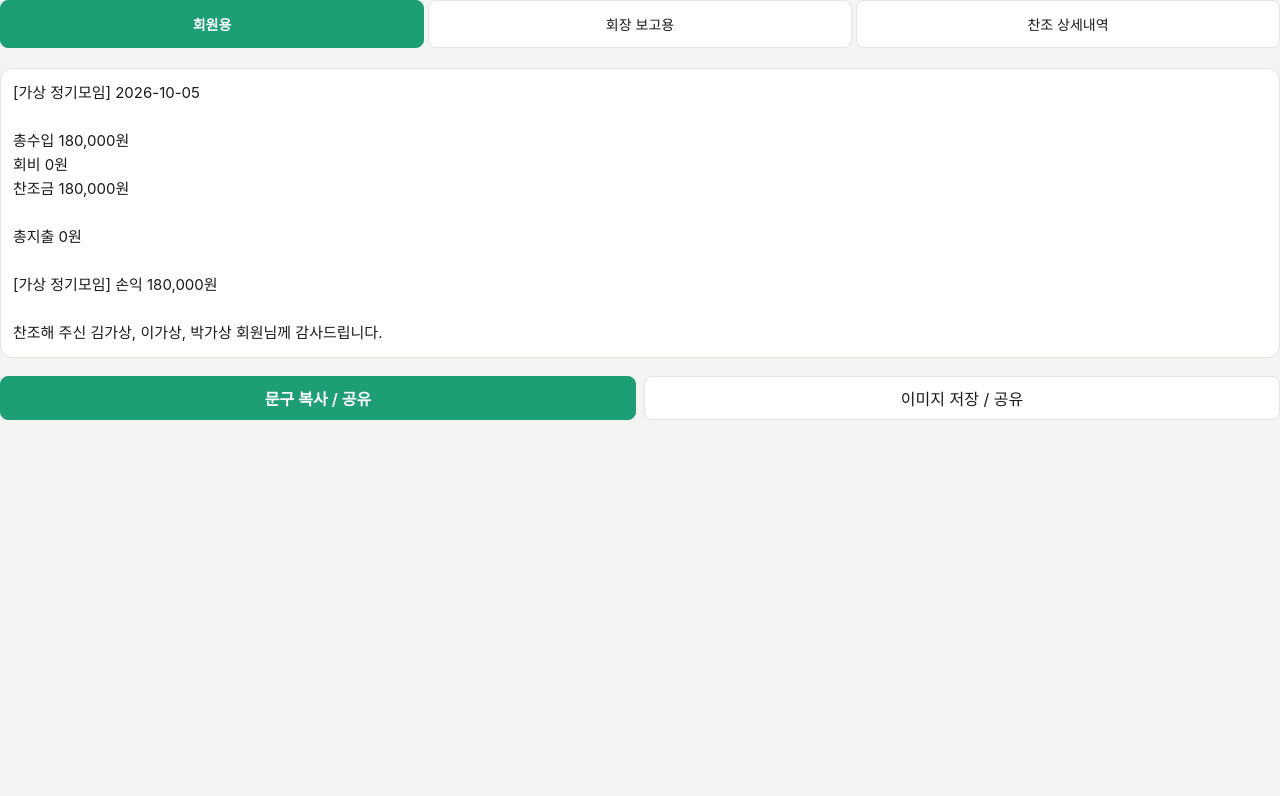
공유 탭 화면 › 기존 회원용·회장 보고용 화면은 예전 그대로다 (같은 문구, 같은 버튼, 회장용 안내문)
Expected: the text "총수입" shows "[가상 정기모임] 2026-10-05", [13,83,382,342]
Expected: the button "문구 복사 / 공유" is shown, [0,376,636,420]
Click the button "회장 보고용" at (640, 24), box [428,0,852,48]
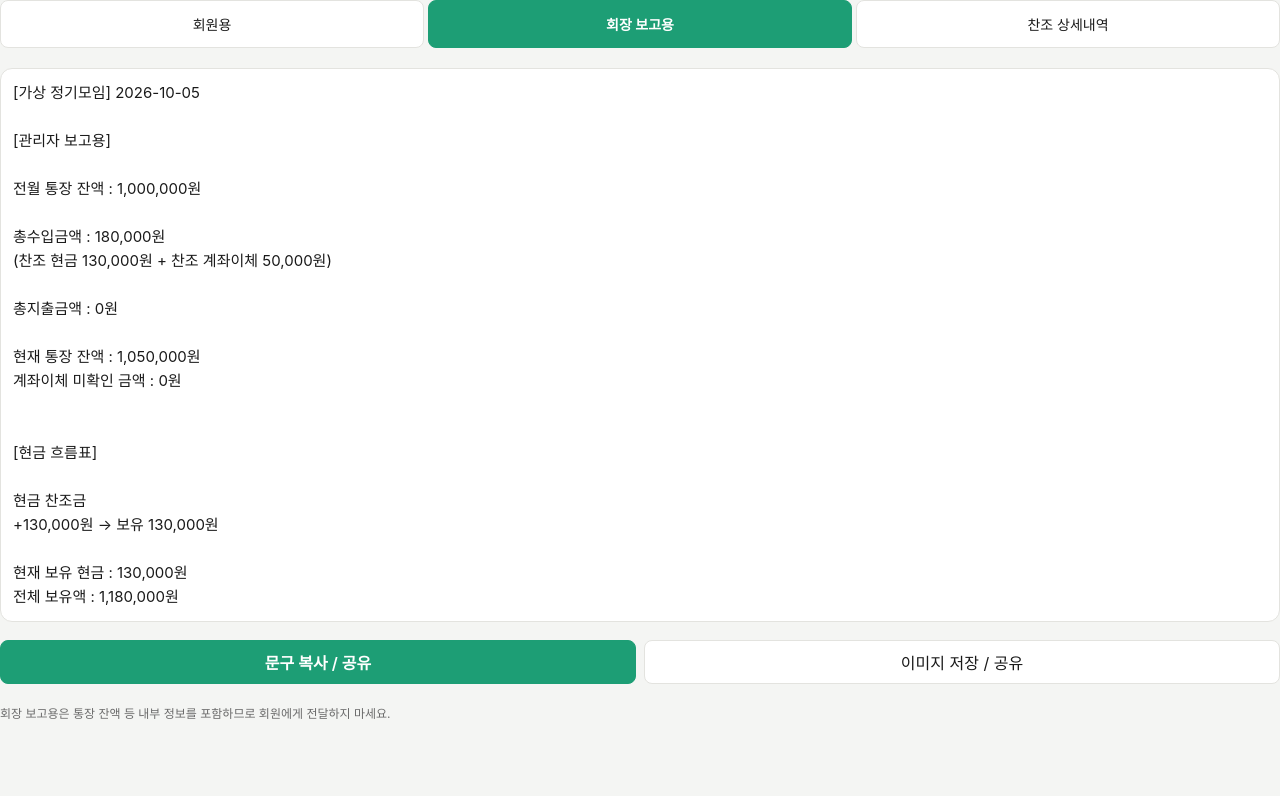
Expected: the text "[관리자 보고용]" is shown, [13,83,332,606]
Expected: the text "회장 보고용은 통장 잔액 등 내부 정보를 포함하므로 회원에게 전달하지 마세요." is shown, [0,706,390,721]
Click the button "찬조 상세내역" at (1068, 24), box [856,0,1279,48]
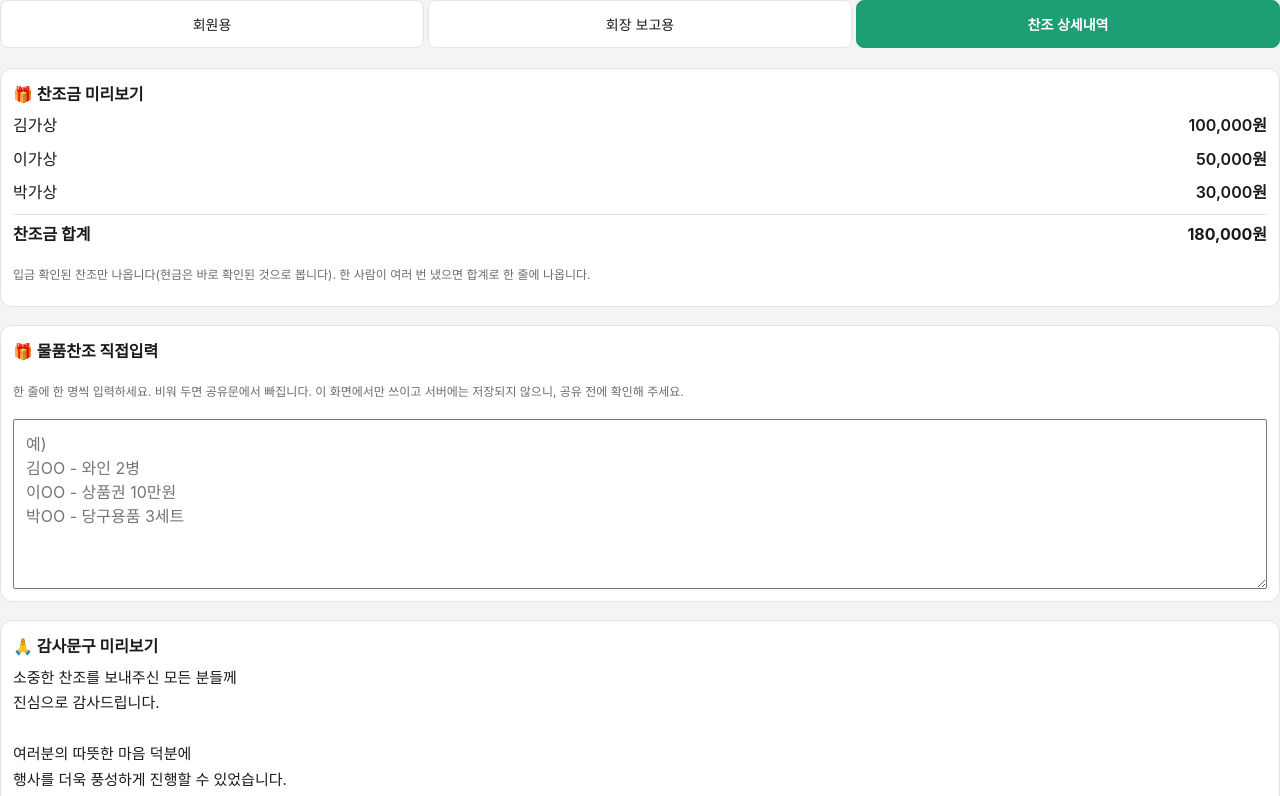
Expected: the button "문구 복사 / 공유" is gone
Expected: the text "회장 보고용은 통장 잔액" is gone
